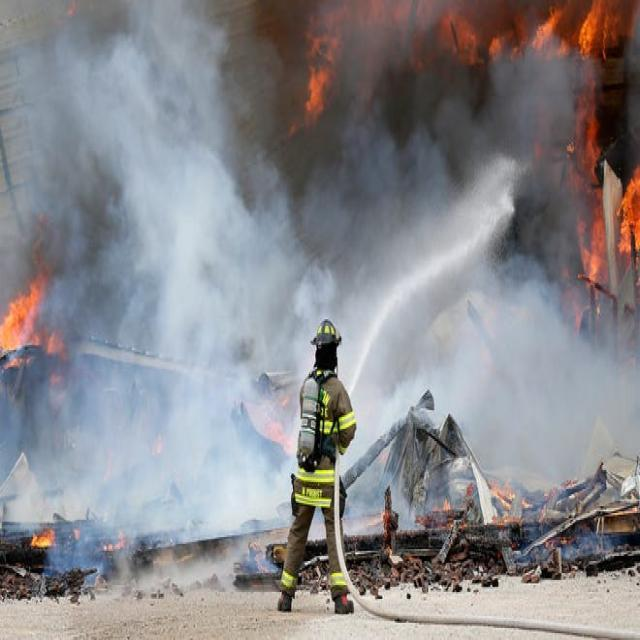Fire: (621, 174, 640, 250), (2, 308, 36, 342)
Smoke: (117, 89, 258, 372)
